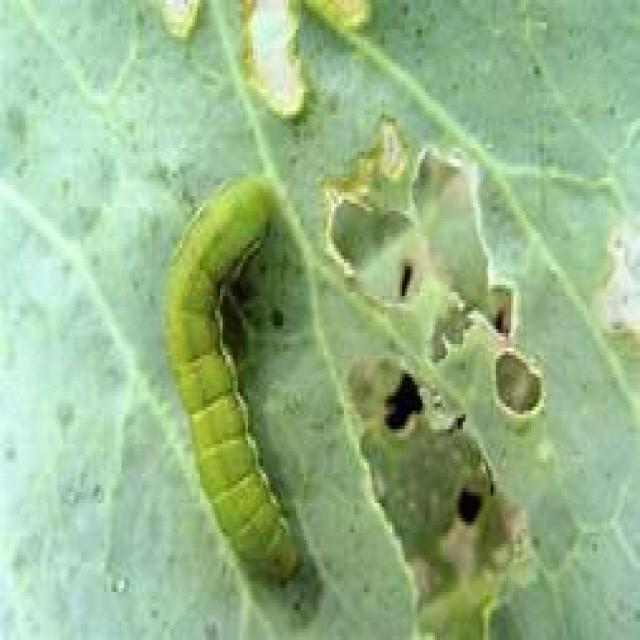BeetArmyWorm-Larva-: (149, 168, 312, 595)
